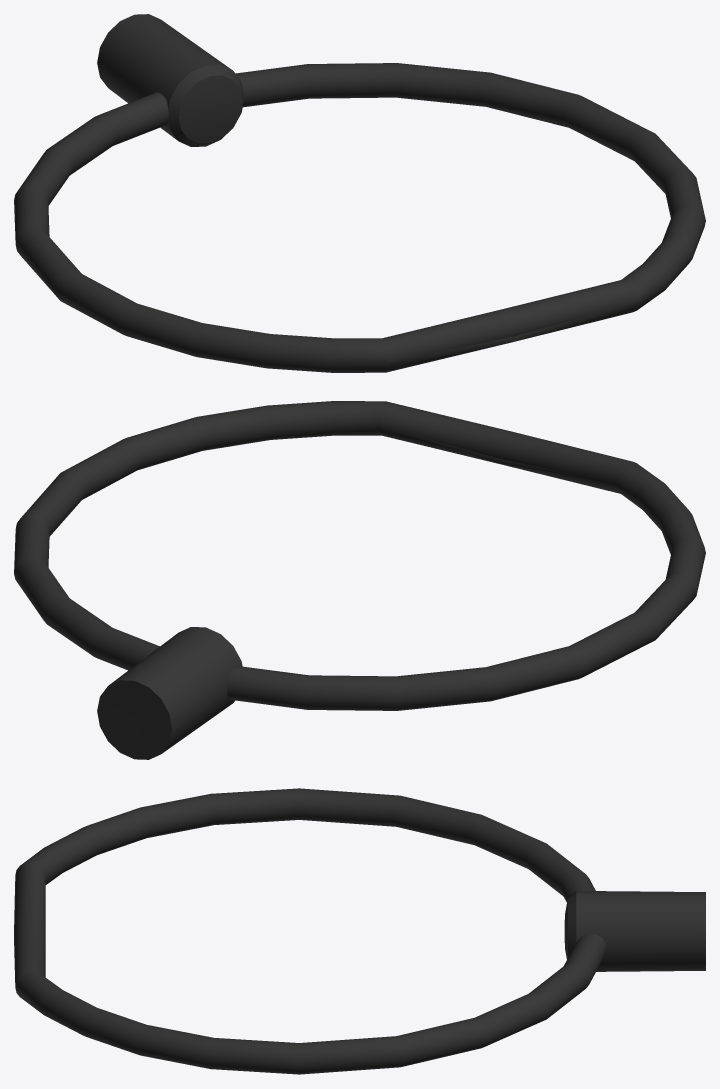
Rendered from Agora_x0_y706.obj.
The picture shows the model from 3 angles, top to bottom: view 1: azimuth 30°, elevation 25°; view 2: azimuth 150°, elevation 25°; view 3: azimuth 270°, elevation 25°; orthographic projection. The views are drawn at different scales.
Visible parts, largest first — view 1: BezierCurve.003_BezierCurve, BezierCurve.002, BezierCurve.001; view 2: BezierCurve.002, BezierCurve.003_BezierCurve, BezierCurve.001; view 3: BezierCurve.003_BezierCurve, BezierCurve.002, BezierCurve.001.
Boxes of the visible parts, x1,y1,x2,y2 form: BezierCurve.003_BezierCurve: (17,63,705,372); BezierCurve.002: (14,63,688,372); BezierCurve.001: (97,14,244,146); BezierCurve.002: (14,401,688,710); BezierCurve.003_BezierCurve: (17,401,705,710); BezierCurve.001: (97,627,242,759); BezierCurve.003_BezierCurve: (14,788,590,1074); BezierCurve.002: (14,794,606,1074); BezierCurve.001: (564,891,705,971).
Size of the model in its own units: 0.804 by 0.1031 by 0.8774.
